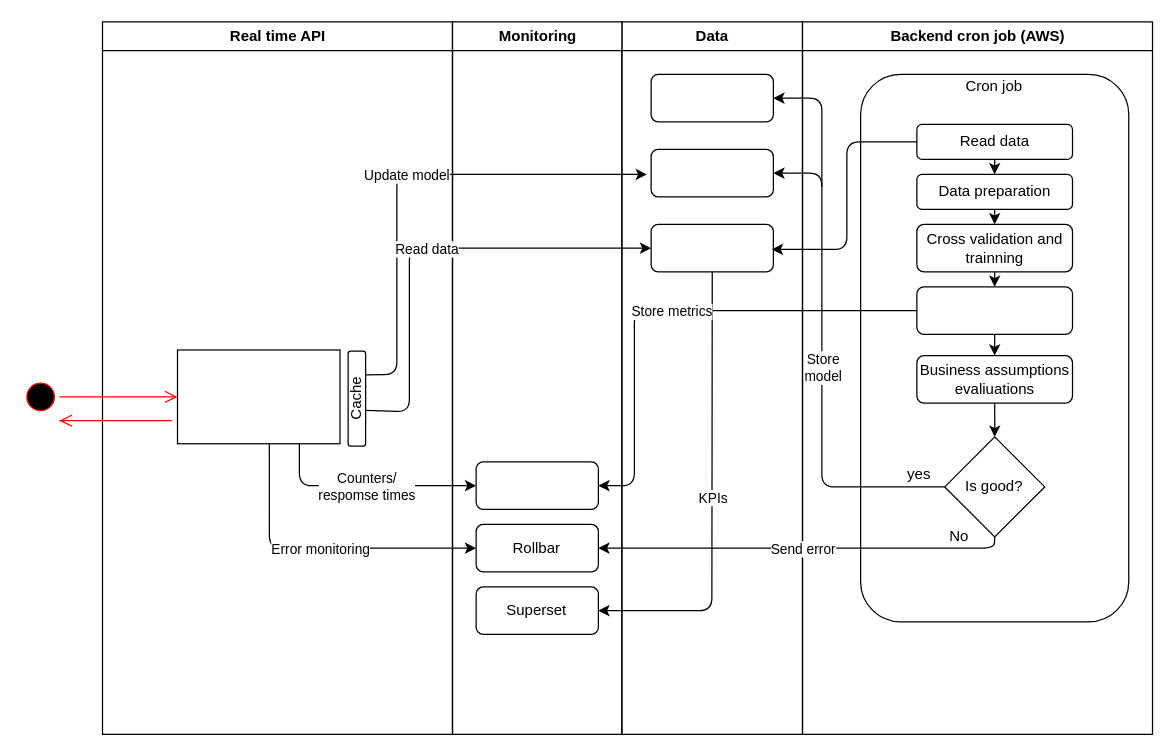
The diagram is 1175 pixels wide and 756 high, and some of its shapes have lost their labels. Here are the shapes that lost their labels. From the top down, the centre of each, then its label:
At point (711, 97): "S3".
At point (711, 172): "Redis: ML models".
At point (711, 247): "Athena".
At point (994, 310): "Model evaluation : log-loss / MRSE".
At point (258, 396): "Recommendation engine".
At point (536, 485): "Grafana".
